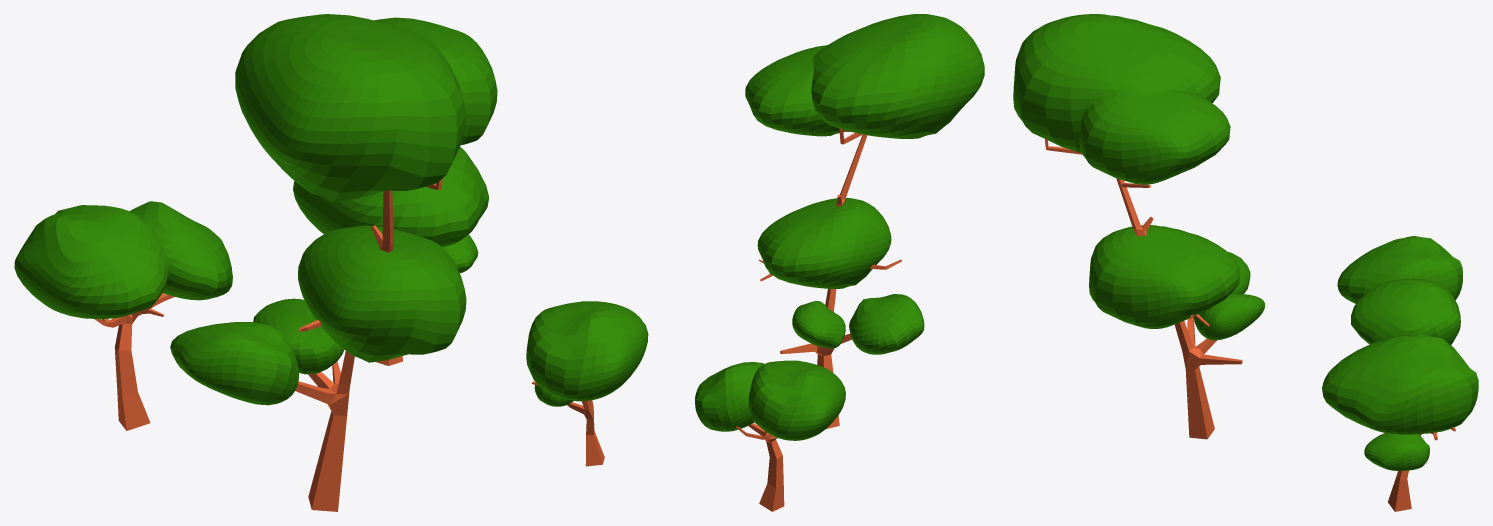
The model's file is talez.fbx.
The picture shows the model from 3 angles, left to right: view 1: azimuth 30°, elevation 25°; view 2: azimuth 150°, elevation 25°; view 3: azimuth 270°, elevation 25°; orthographic projection. The views are drawn at different scales.
Visible parts, largest first — view 1: Sphere.006, Sphere.001, Sphere.002; view 2: Sphere.006, Sphere.002, Sphere.001; view 3: Sphere.006, Sphere.002, Sphere.001.
Part boxes in pixels (box(x1,y1,x2,y2)): Sphere.006: box(170, 14, 497, 511); Sphere.001: box(14, 201, 232, 430); Sphere.002: box(293, 147, 489, 365); Sphere.006: box(745, 14, 984, 428); Sphere.002: box(526, 301, 648, 466); Sphere.001: box(695, 360, 845, 511); Sphere.006: box(1013, 14, 1264, 439); Sphere.002: box(1322, 333, 1478, 511); Sphere.001: box(1337, 236, 1462, 344).
Bounding box in the file's own units: 4180 × 4890 × 5228.
